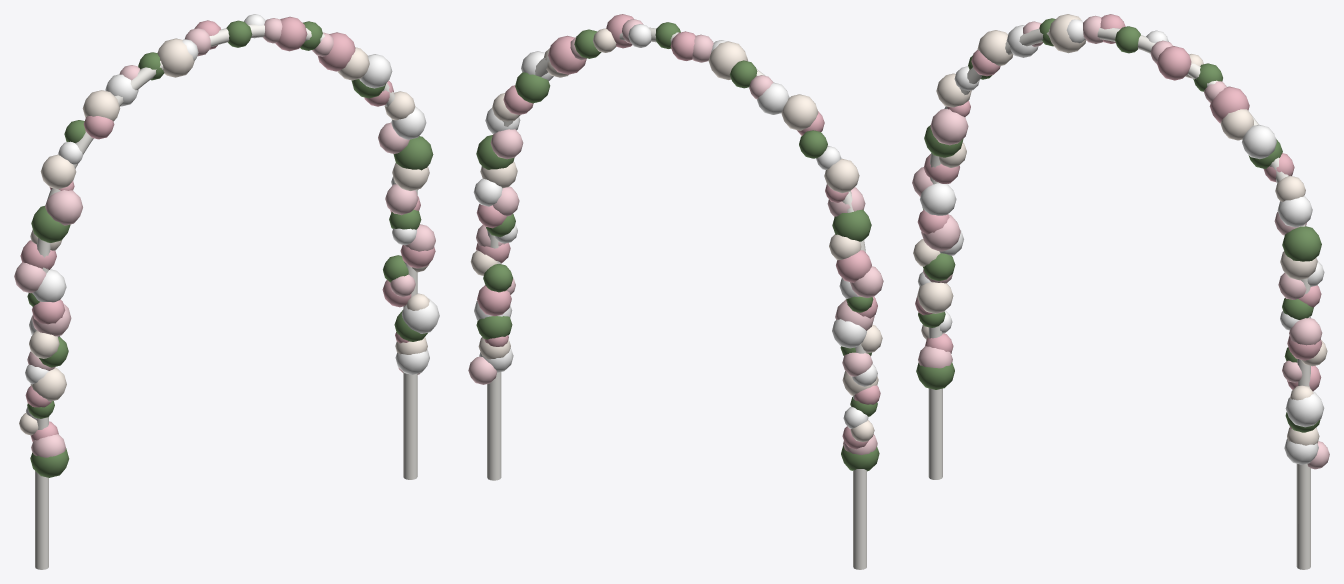
The model's file is flower_arch.glb.
3 renders of one model, left to right at view 1: azimuth 30°, elevation 25°; view 2: azimuth 150°, elevation 25°; view 3: azimuth 330°, elevation 25°, orthographic.
Bounding box in the file's own units: 2.36 × 2.72 × 0.277.
